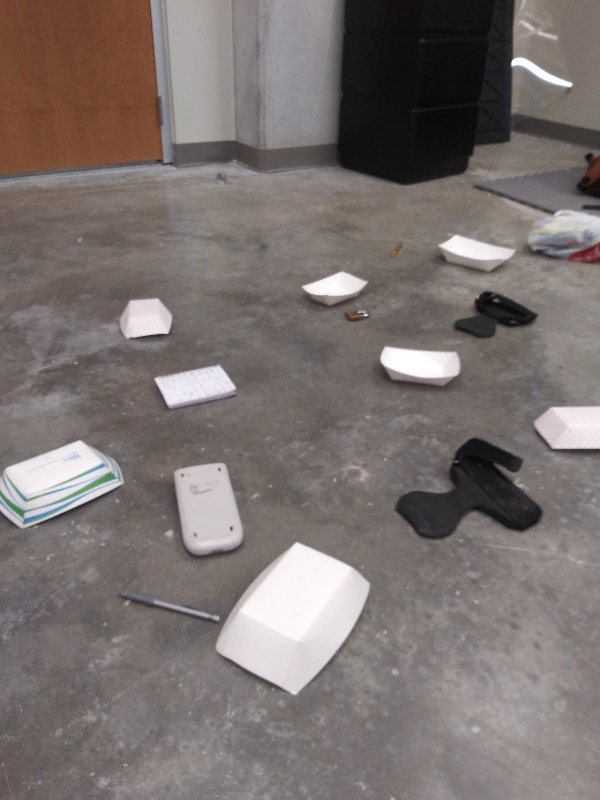plate: (209, 536, 378, 708), (1, 435, 130, 533), (530, 397, 600, 459), (377, 344, 466, 392), (299, 264, 377, 313), (434, 232, 520, 274), (115, 294, 176, 347)
